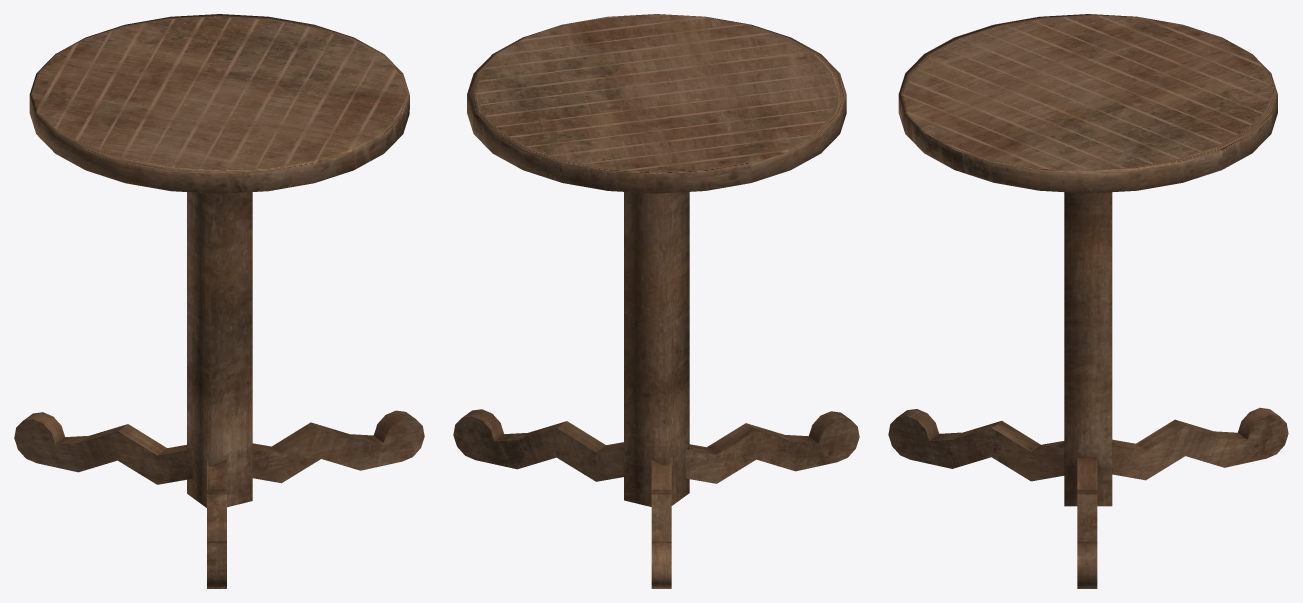
File: Furn_SmallTable.glb
The picture shows the model from 3 angles, left to right: view 1: azimuth 30°, elevation 25°; view 2: azimuth 150°, elevation 25°; view 3: azimuth 270°, elevation 25°; orthographic projection.
Parts seen in each view (by area): view 1: Furn_SmallTable; view 2: Furn_SmallTable; view 3: Furn_SmallTable.
Part boxes in pixels (box(x1,y1,x2,y2)): Furn_SmallTable: box(14, 14, 424, 588); Furn_SmallTable: box(453, 14, 859, 588); Furn_SmallTable: box(888, 14, 1288, 588).
Size of the model in its own units: 0.4779 by 0.5112 by 0.4561.
Materials: 1 (1 with a texture image).
